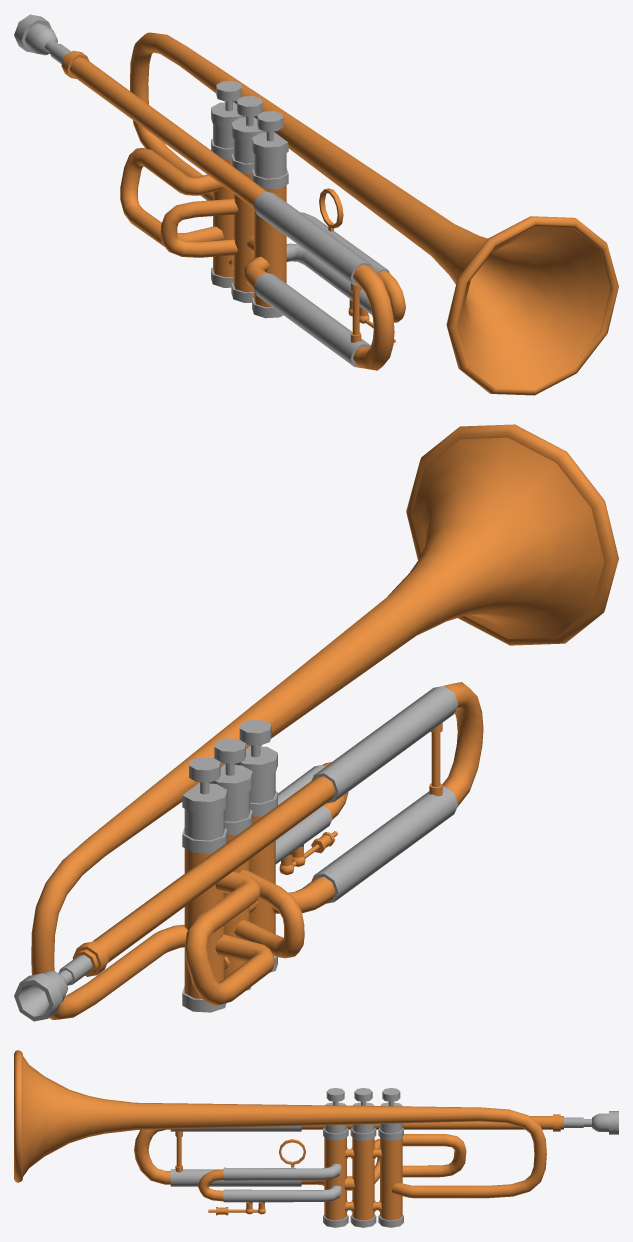
File: Trumpet_01.fbx
The picture shows the model from 3 angles, top to bottom: view 1: azimuth 30°, elevation 25°; view 2: azimuth 150°, elevation 25°; view 3: azimuth 270°, elevation 25°; orthographic projection. The views are drawn at different scales.
Visible parts, largest first — view 1: Trumpet_01; view 2: Trumpet_01; view 3: Trumpet_01.
Boxes of the visible parts, x1=… form: Trumpet_01: x1=14, y1=14, x2=618, y2=395; Trumpet_01: x1=14, y1=424, x2=618, y2=1021; Trumpet_01: x1=14, y1=1050, x2=618, y2=1227.
Bounding box in the file's own units: 0.2504 × 0.3348 × 1.05.
